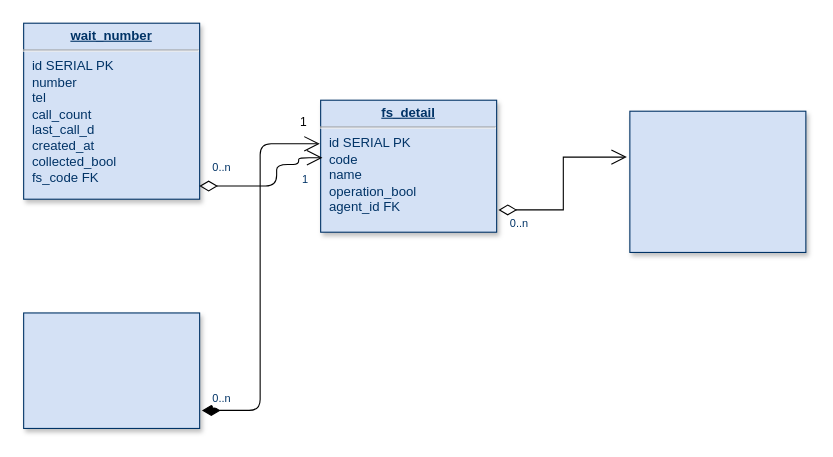
Image size: 833x457. Some labels were removed from this diagram. Here are the shapes that lost their labels. From the top down, the centre of each, then its label:
point 718,183: agent_detail id SERIAL PK email password profile first_name last_name
point 112,371: user_detail id SERIAL PK username password fs_id FK
